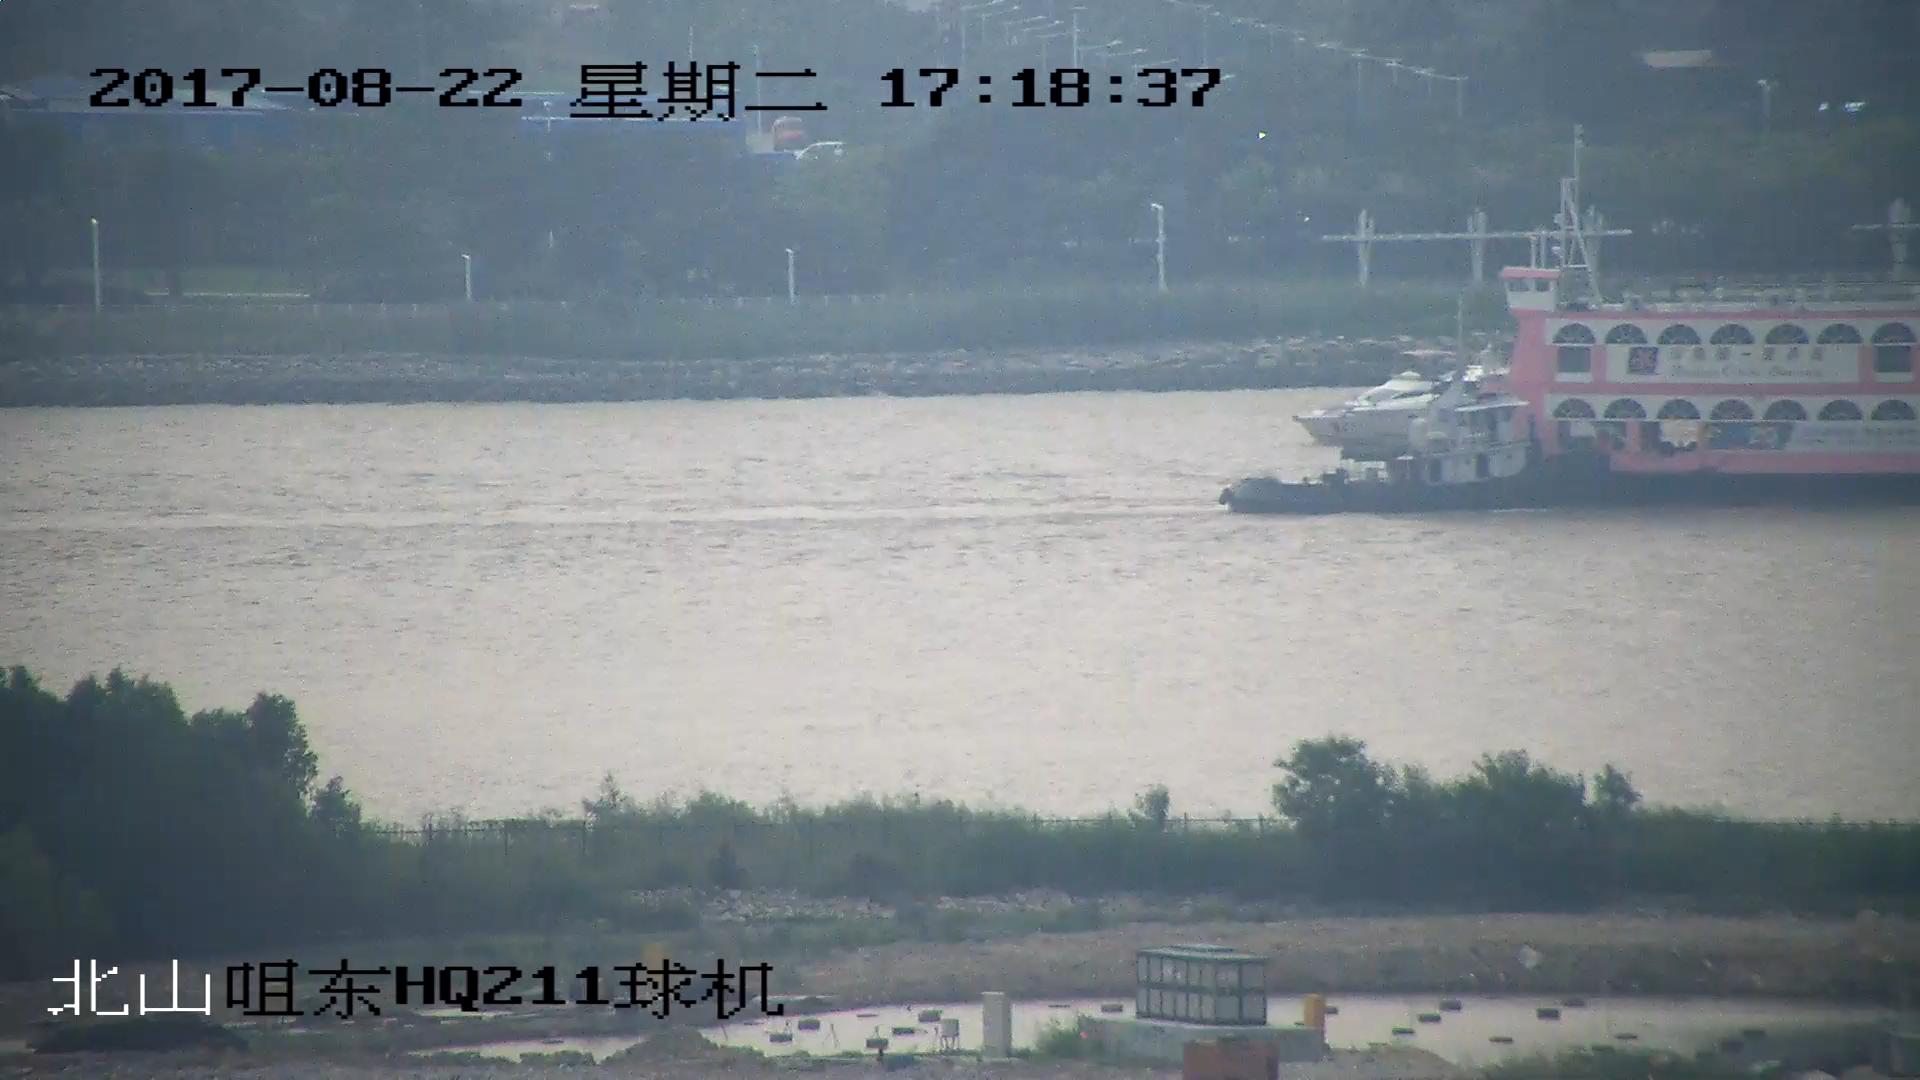passenger ship: (1230, 181, 1920, 513)
